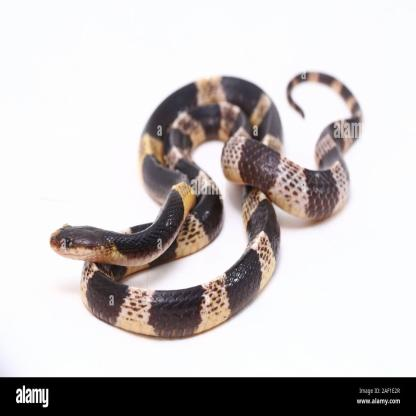Snake: (45, 61, 362, 342)
